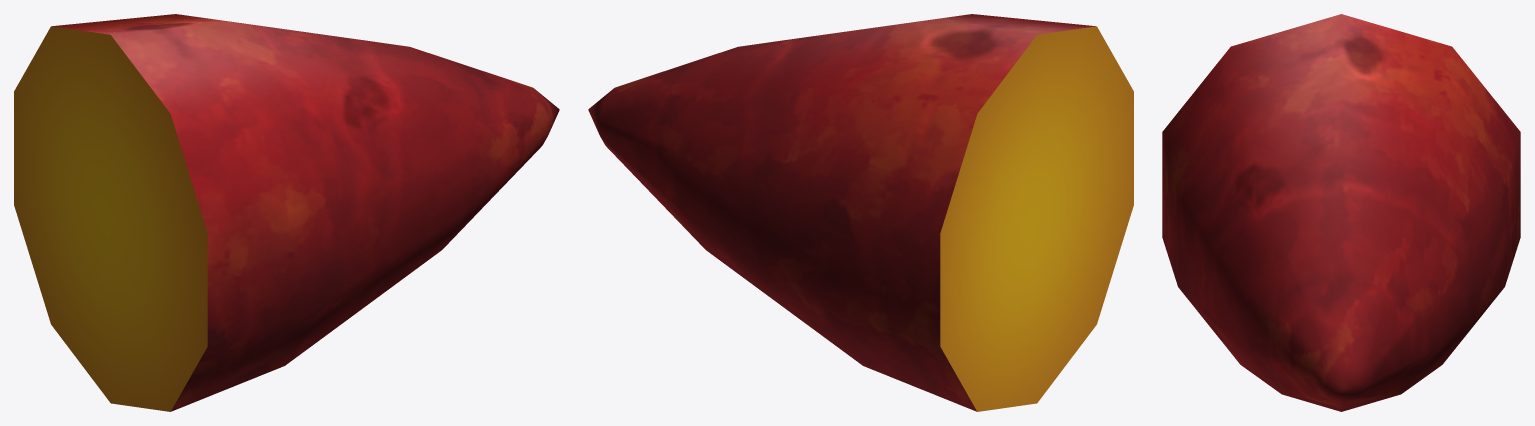
File: Potato_Yam_Half.fbx
The picture shows the model from 3 angles, left to right: view 1: azimuth 30°, elevation 25°; view 2: azimuth 150°, elevation 25°; view 3: azimuth 270°, elevation 25°; orthographic projection. The views are drawn at different scales.
Parts seen in each view (by area): view 1: Potato_Yam_Half; view 2: Potato_Yam_Half; view 3: Potato_Yam_Half.
Boxes of the visible parts, x1,y1,x2,y2 form: Potato_Yam_Half: (14,14,559,411); Potato_Yam_Half: (588,14,1133,411); Potato_Yam_Half: (1162,14,1520,411).
Bounding box in the file's own units: 39.49 × 30.97 × 29.46.
